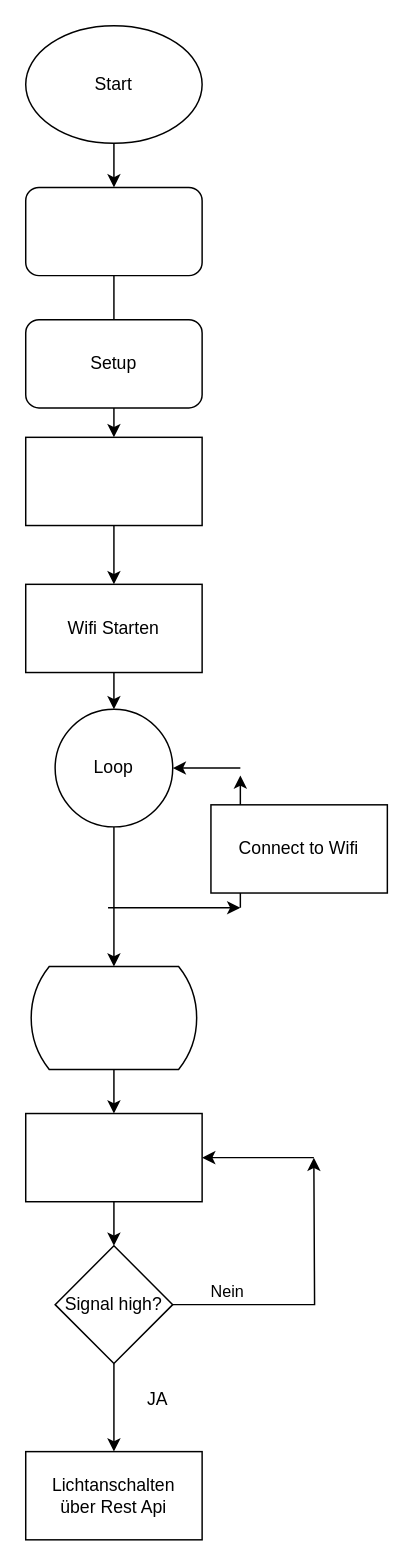
Image size: 413x1566. Some labels were removed from this diagram. Each missing label, with the centre of its shape:
Analog Singal auslesen: the point at 113,1157
Initialisierung Variablen: the point at 113,231
Main Loop: the point at 113,1017
Serielle Schnitstelle öffnen: the point at 113,481
